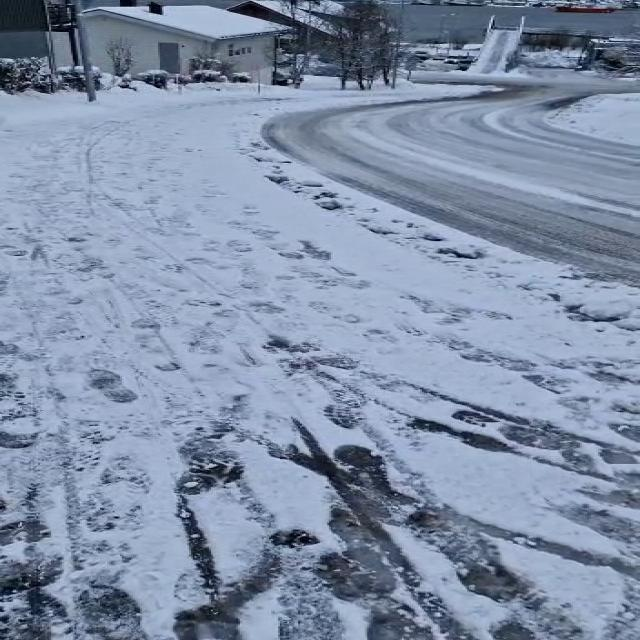path: (264, 72, 640, 282)
